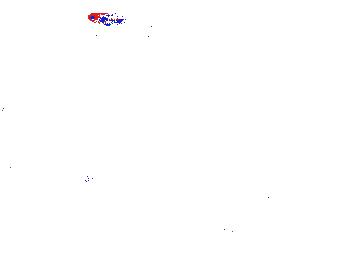X-ray fish: (196, 218, 254, 246)
red belly glassfish: (88, 11, 123, 27)
